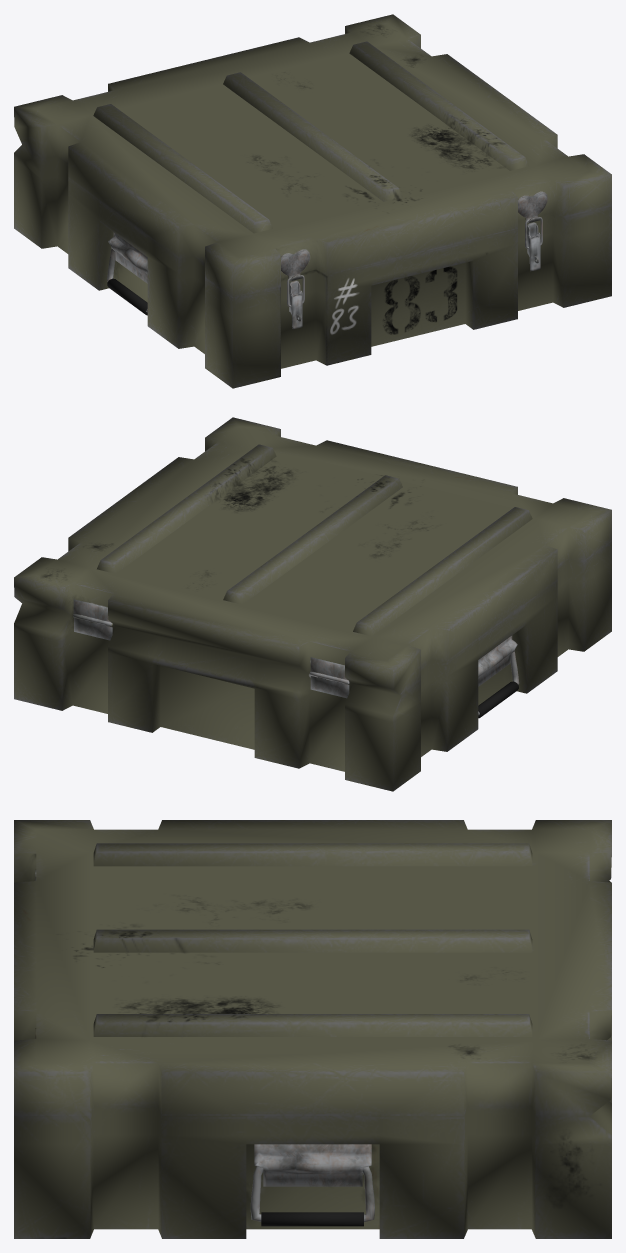
The model's file is ArmyBoxComplete.fbx.
3 views of the same model, one above another, from view 1: azimuth 30°, elevation 25°; view 2: azimuth 150°, elevation 25°; view 3: azimuth 270°, elevation 25° (orthographic). The views are drawn at different scales.
Visible parts, largest first — view 1: fullbody; view 2: fullbody; view 3: fullbody.
Boxes of the visible parts, x1,y1,x2,y2 form: fullbody: (14, 14, 611, 388); fullbody: (14, 417, 611, 791); fullbody: (14, 820, 611, 1238).
Size of the model in its own units: 406 by 134 by 406.
